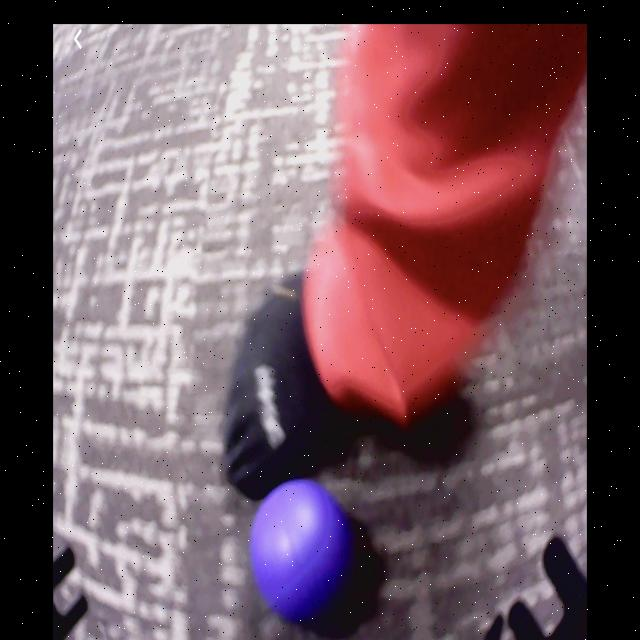ball: (251, 482, 349, 616)
